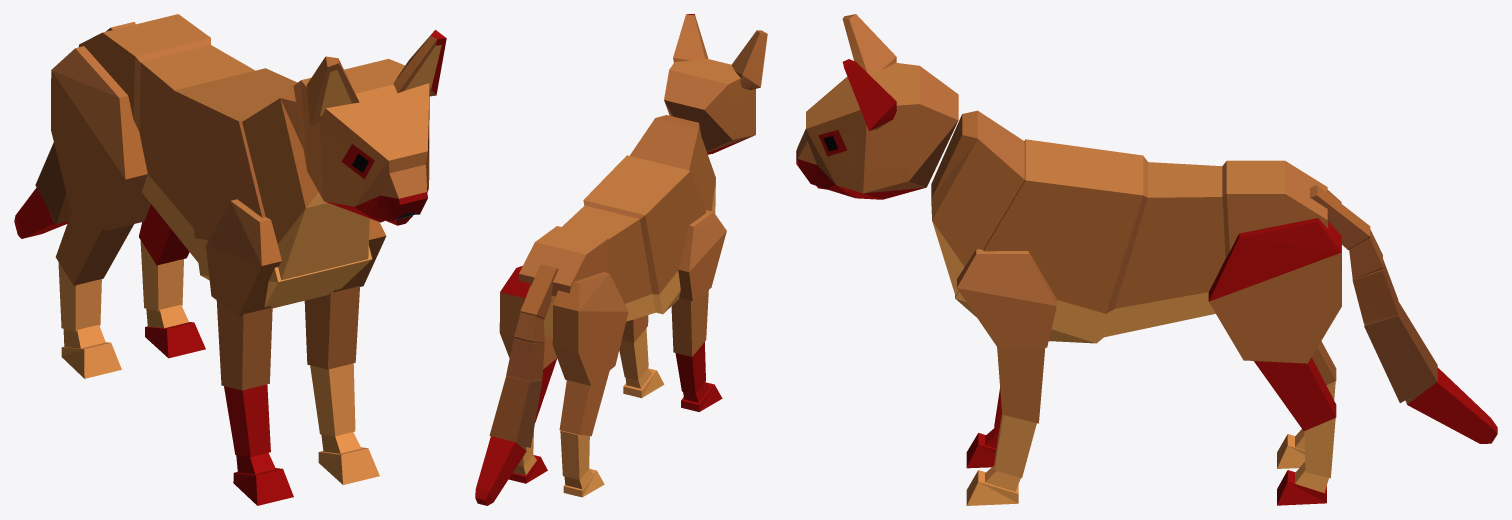
The model's file is zombie_cat_parts.glb.
3 views of the same model, side by side, from view 1: azimuth 30°, elevation 25°; view 2: azimuth 150°, elevation 25°; view 3: azimuth 270°, elevation 25° (orthographic). The views are drawn at different scales.
Visible parts, largest first — view 1: body_1, leg_right_2, head, leg_right_1, body_2, leg_left_1, leg_left_2, tail; view 2: body_1, leg_right_2, body_2, head, tail, leg_right_1, leg_left_2, leg_left_1; view 3: body_1, leg_left_2, body_2, head, leg_left_1, tail, leg_right_2, leg_right_1.
Boxes of the visible parts, x1,y1,x2,y2 form: body_1: (174, 68, 372, 308); leg_right_2: (51, 46, 150, 378); head: (293, 30, 446, 225); leg_right_1: (206, 199, 293, 505); body_2: (78, 14, 254, 262); leg_left_1: (304, 218, 386, 484); leg_left_2: (139, 204, 205, 358); tail: (14, 22, 135, 238); body_1: (583, 115, 715, 314); leg_right_2: (552, 272, 628, 497); body_2: (518, 205, 656, 337); head: (664, 14, 767, 154); tail: (475, 265, 558, 505); leg_right_1: (671, 210, 726, 411); leg_left_2: (499, 266, 557, 483); leg_left_1: (619, 315, 664, 398); body_1: (931, 110, 1147, 343); leg_left_2: (1208, 218, 1341, 505); body_2: (1104, 160, 1328, 337); head: (796, 14, 958, 199); leg_left_1: (957, 249, 1056, 505); tail: (1310, 185, 1497, 443); leg_right_2: (1277, 190, 1341, 468); leg_right_1: (966, 388, 1001, 468).
Bounding box in the file's own units: 0.0531 × 0.1981 × 0.2854.
1 material, 1 textured.
